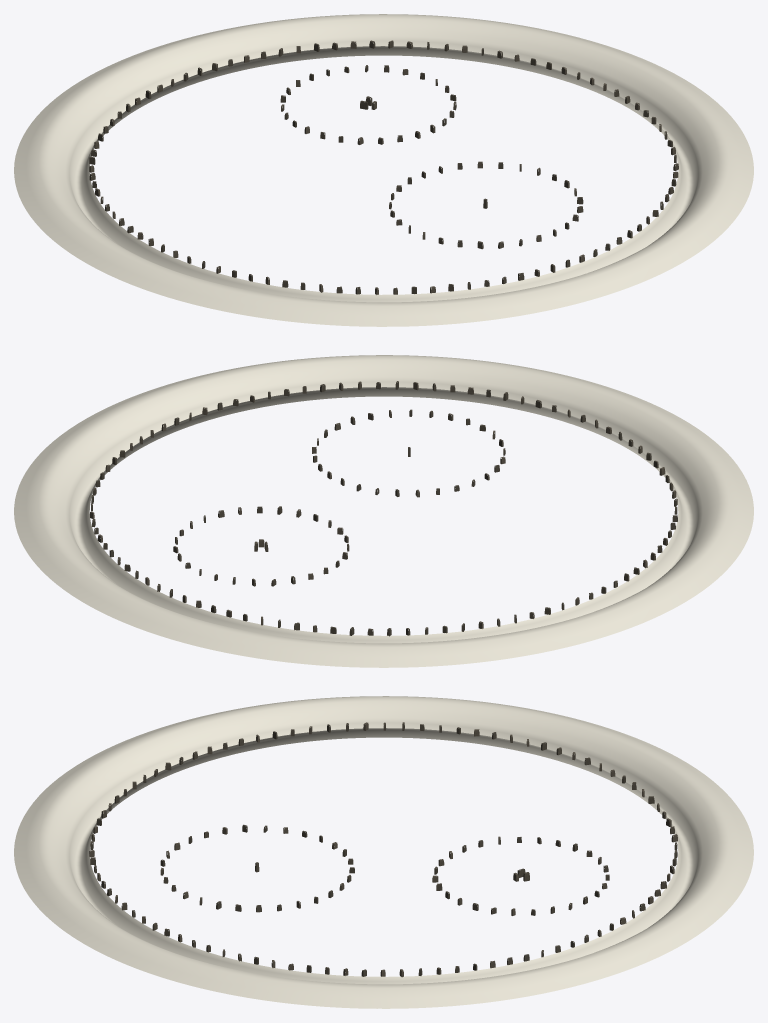
File: avebury.glb
3 renders of one model, top to bottom at view 1: azimuth 30°, elevation 25°; view 2: azimuth 150°, elevation 25°; view 3: azimuth 270°, elevation 25°, orthographic.
Size of the model in its own units: 42 by 1.42 by 42.
4 materials, 3 textured.
